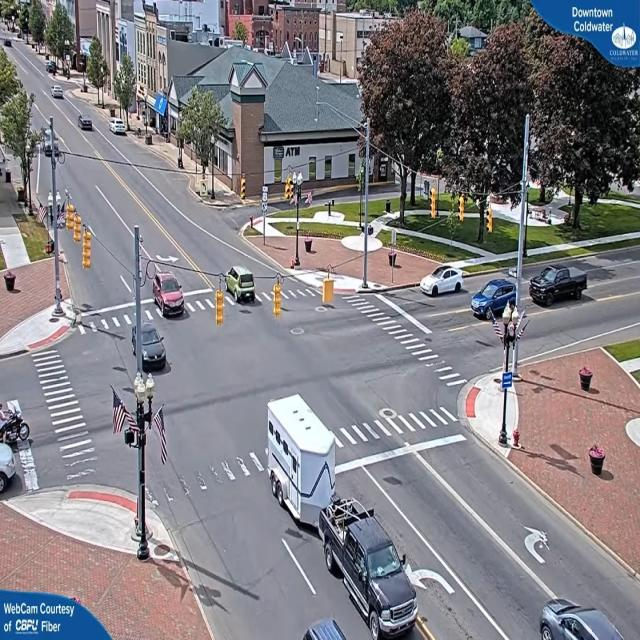car: (323, 500, 419, 638), (540, 601, 634, 640), (529, 266, 587, 308), (472, 280, 518, 322), (136, 318, 170, 374), (152, 271, 186, 317), (420, 265, 466, 295), (226, 268, 257, 304), (110, 119, 128, 136)
motorbike: (0, 402, 30, 445)
